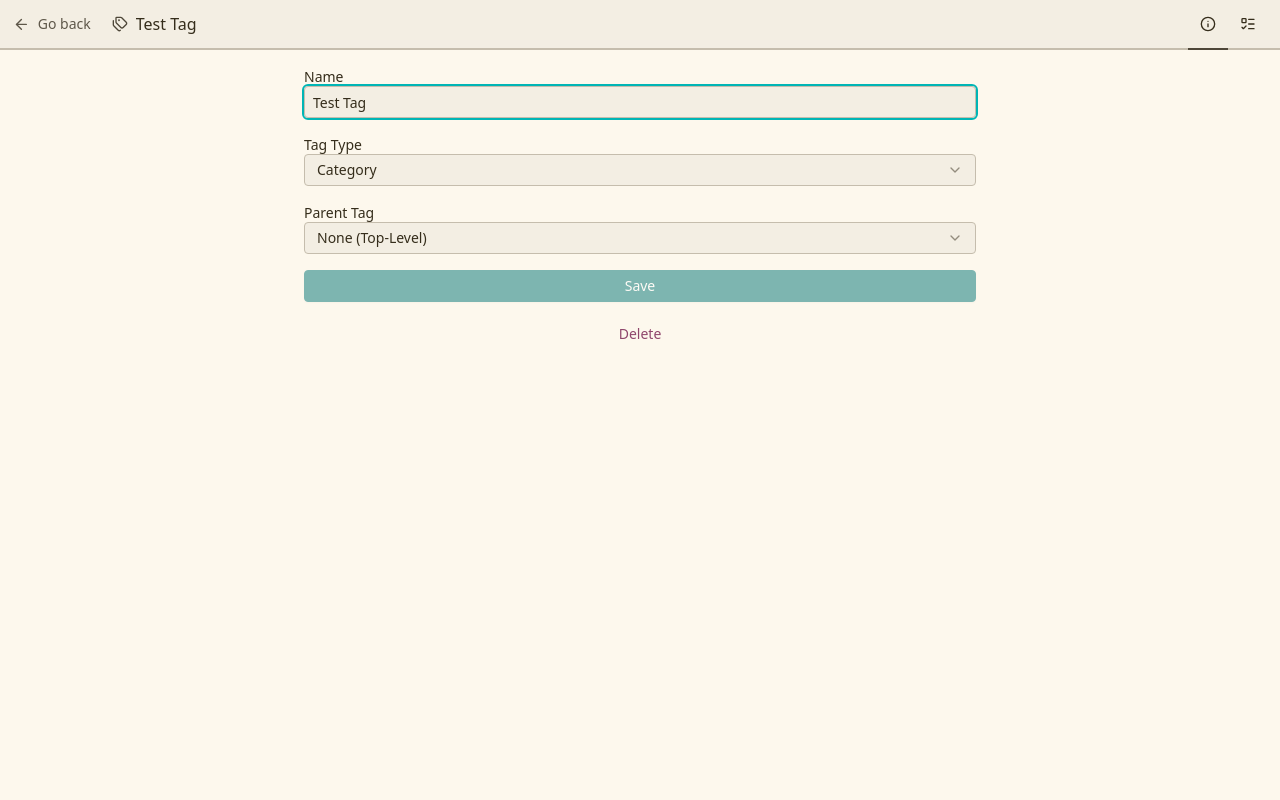
Test: Tag Detail - Info Tab › user sees discard dialog when navigating to Items tab with unsaved changes
# When user changes tag name without saving
Replace the text in the field labelled "Name" with "Changed Name" at (640, 102), box [304, 86, 976, 118]
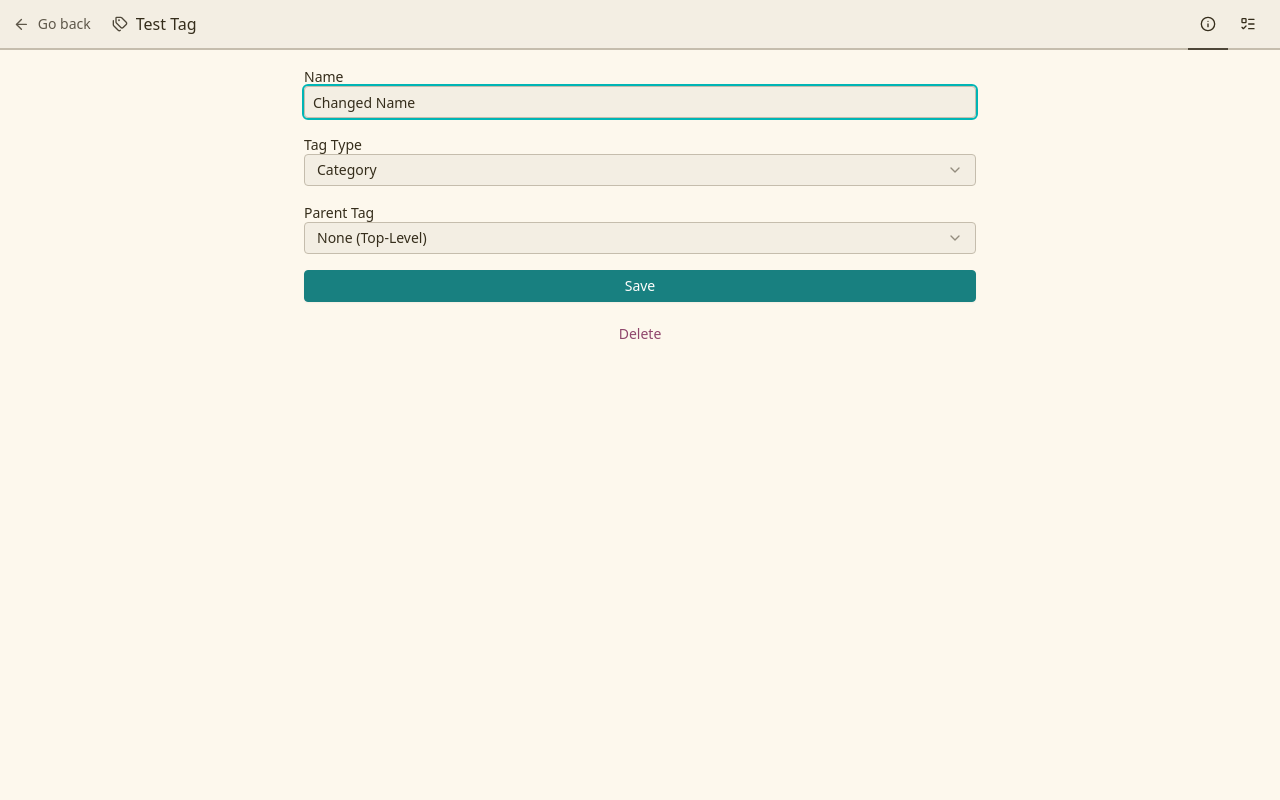
Click the link named "Tag items tab" at (1248, 25), box [1228, 0, 1268, 50]
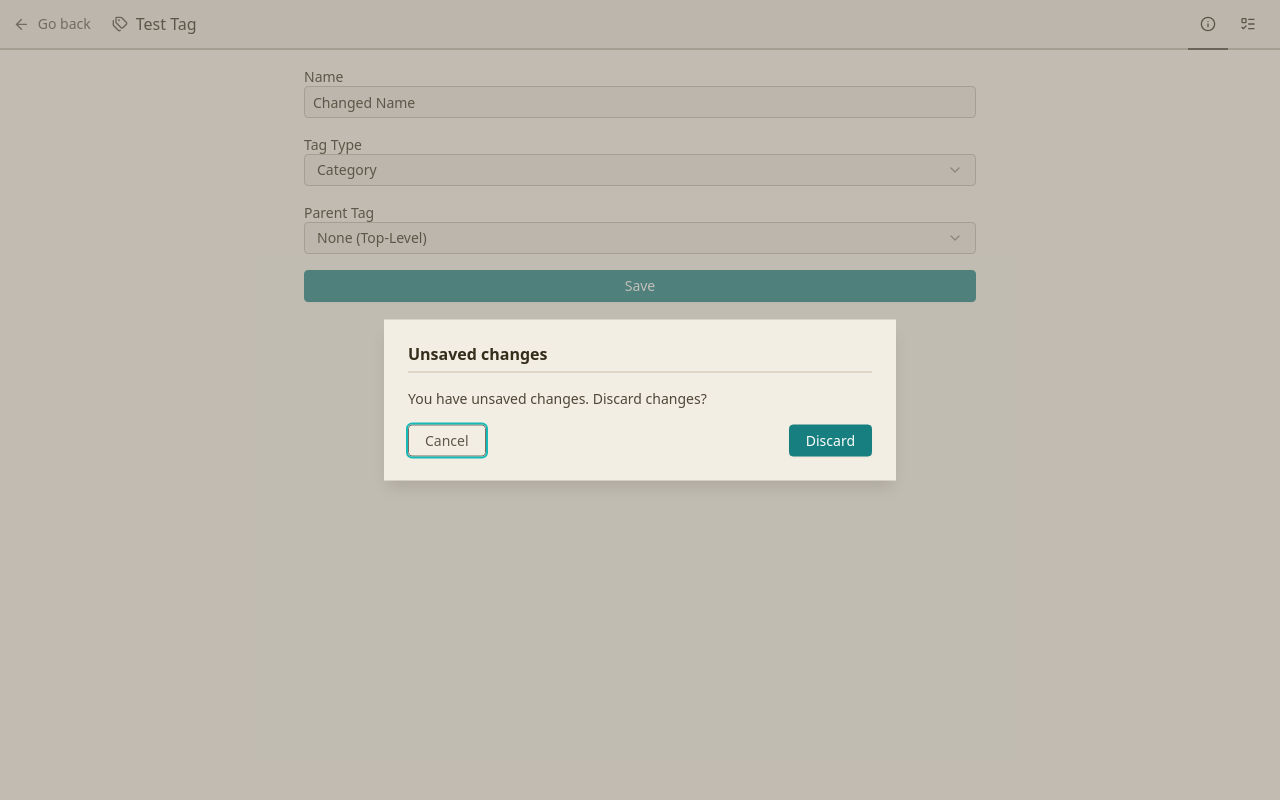
Expected: the heading "Unsaved changes" is shown, [408, 342, 548, 364]
Expected: the text "You have unsaved changes. Discard changes?" is shown, [408, 388, 707, 408]
